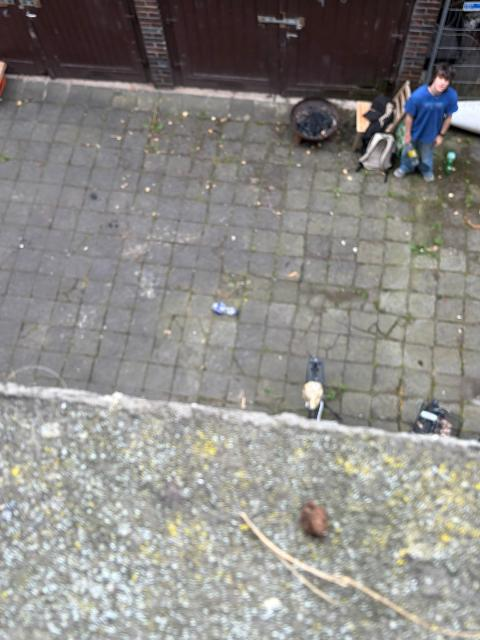plastic_bottle: (211, 302, 238, 317), (446, 151, 457, 176)
